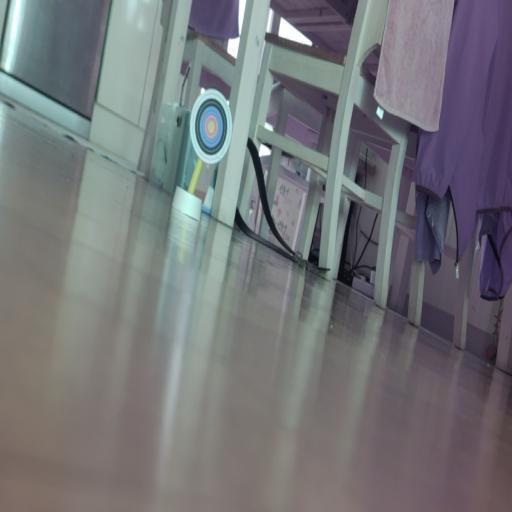target: (189, 89, 232, 163)
